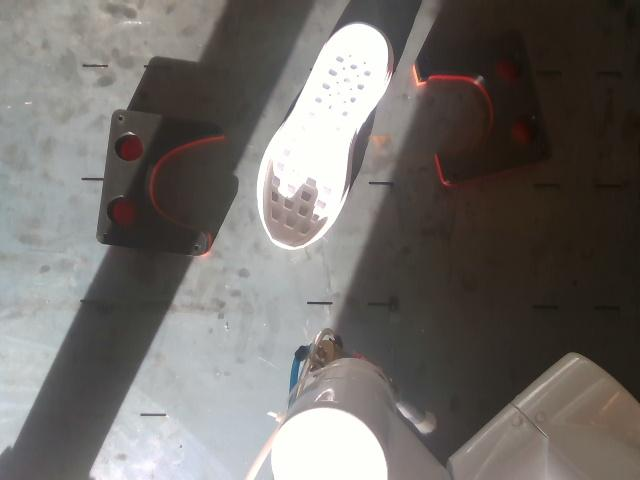shoes: (263, 25, 388, 246)
